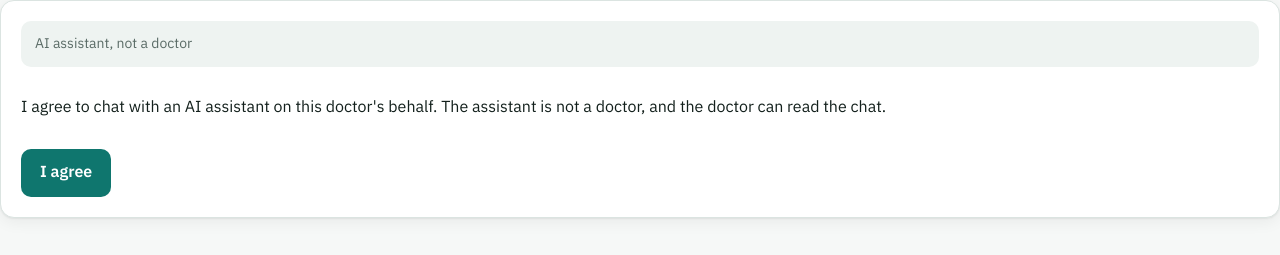
it: consent › asks for what is missing before the chat opens, and records it
Expected: the text "I agree to chat with an AI assistant" is shown, [21,95,886,119]
Click the button "I agree": (66, 173) [21,149,111,197]
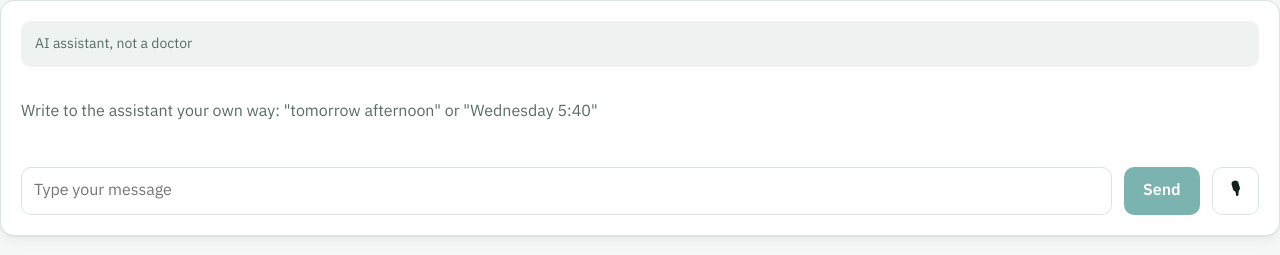
Expected: the field labelled "Type your message" is shown, [21,167,1112,215]
